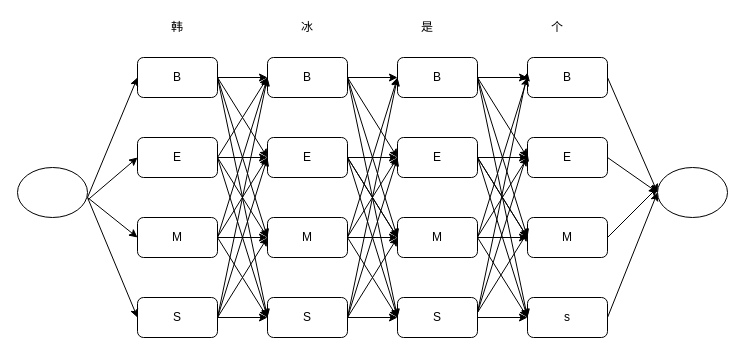
This 745x355 diagram has some shape labels left out. The box of each missing label's shape, as (x1, y1, x2, y2) in pixels:
end: (656, 166, 728, 218)
Start: (16, 166, 88, 218)
